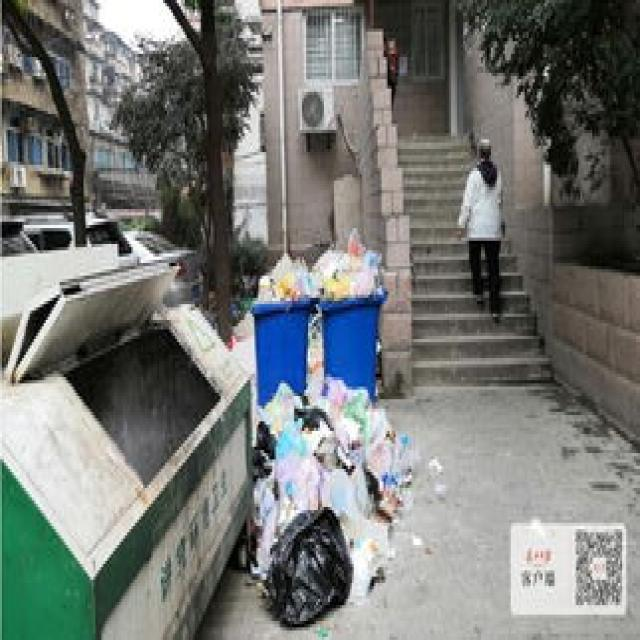garbage: (246, 371, 414, 624)
garbage_bin: (0, 301, 252, 637)
overflow: (314, 225, 386, 399), (250, 250, 318, 402)
